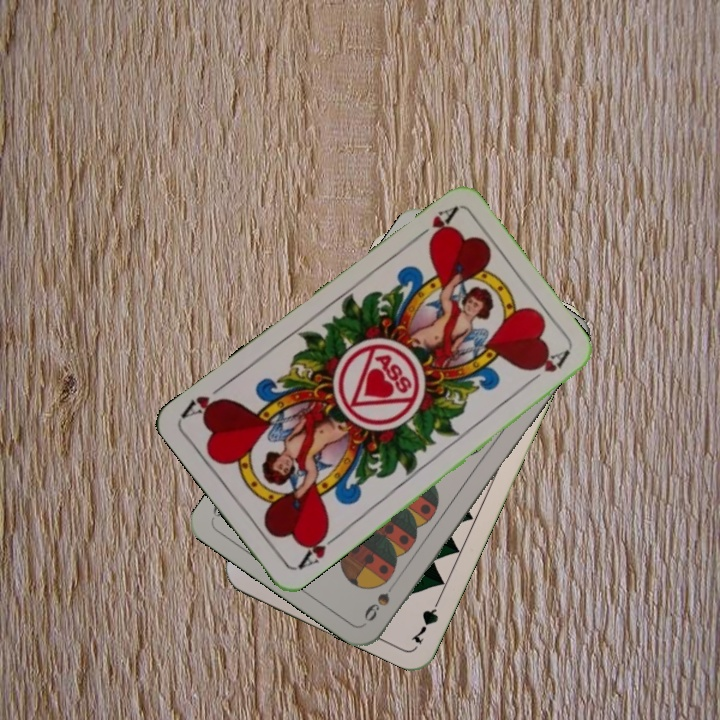G7: (407, 591, 444, 648)
HA: (292, 524, 343, 573), (408, 202, 460, 247)
S9: (360, 574, 402, 624)
